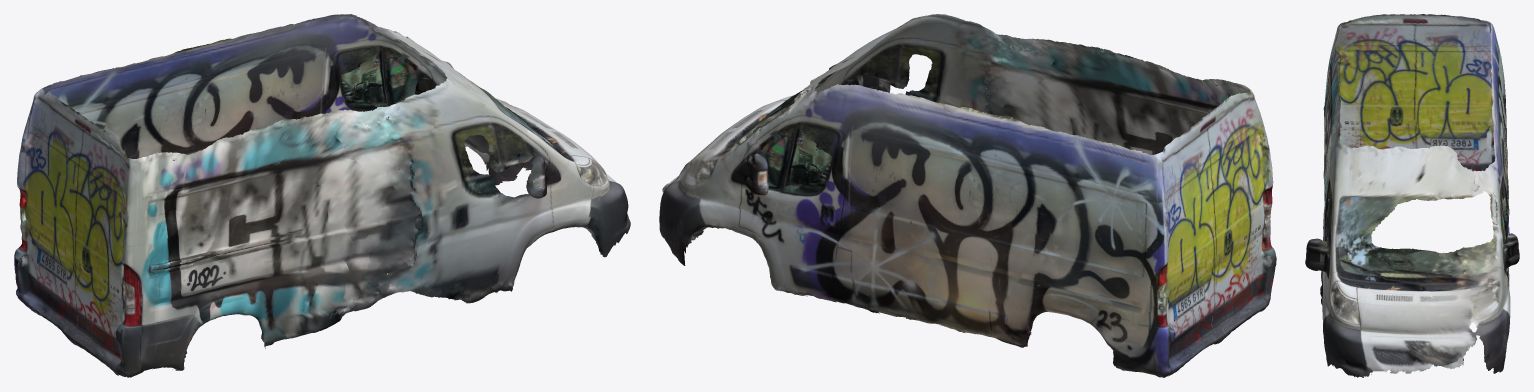
The model's file is van-007.glb.
The picture shows the model from 3 angles, left to right: view 1: azimuth 30°, elevation 25°; view 2: azimuth 150°, elevation 25°; view 3: azimuth 270°, elevation 25°; orthographic projection. The views are drawn at different scales.
Visible parts, largest first — view 1: No__7_v2; view 2: No__7_v2; view 3: No__7_v2.
Part boxes in pixels (<box>): No__7_v2: <box>14,14,630,377</box>; No__7_v2: <box>659,14,1276,377</box>; No__7_v2: <box>1305,14,1519,377</box>.
Bounding box in the file's own units: 5.39 × 2.23 × 2.37.
Materials: 1 (1 with a texture image).
